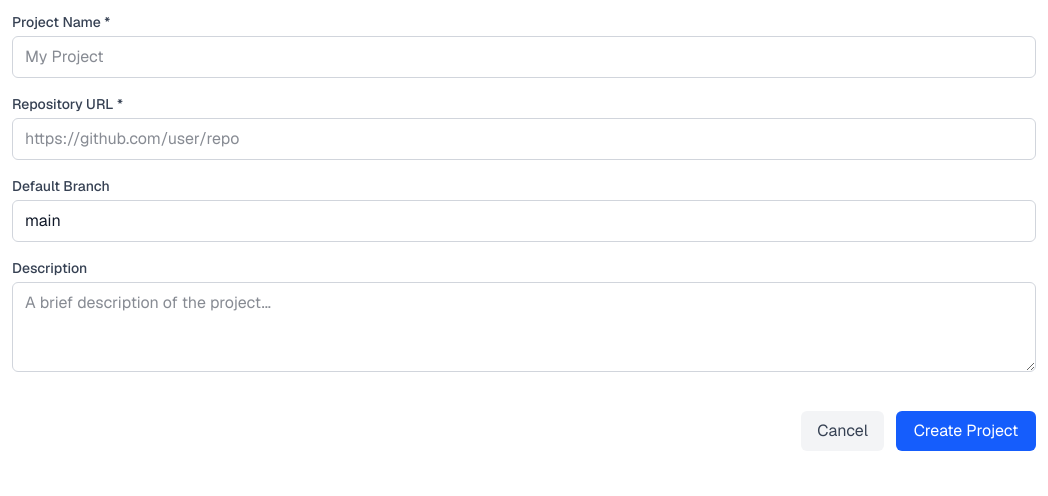
it: ProjectForm › Create mode › should validate repository URL format
The image size is (1048, 496).
Type "Test Project" into the field labelled "Project Name *". click: (524, 57)
box: [12,36,1036,78]
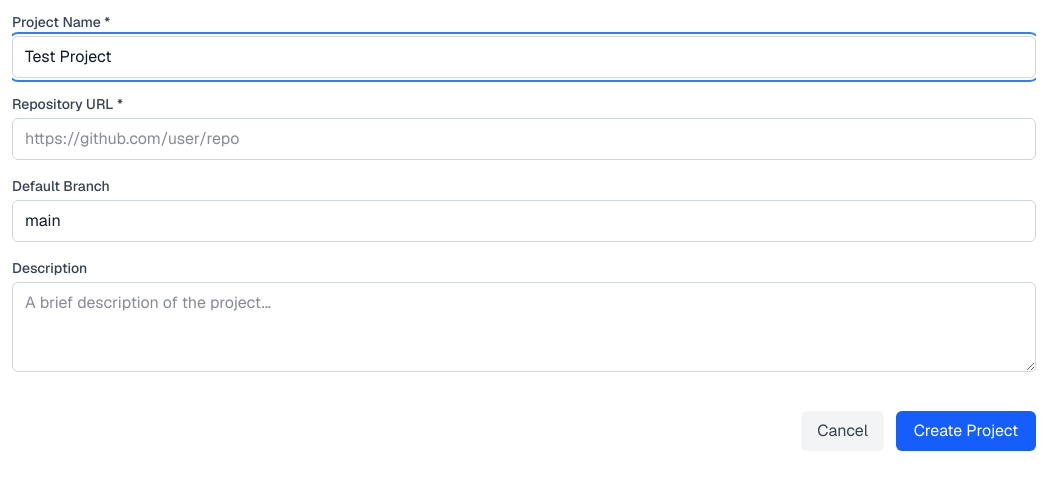
Type "invalid-url" into the field labelled "Repository URL *". click: (524, 139)
box: [12,118,1036,160]
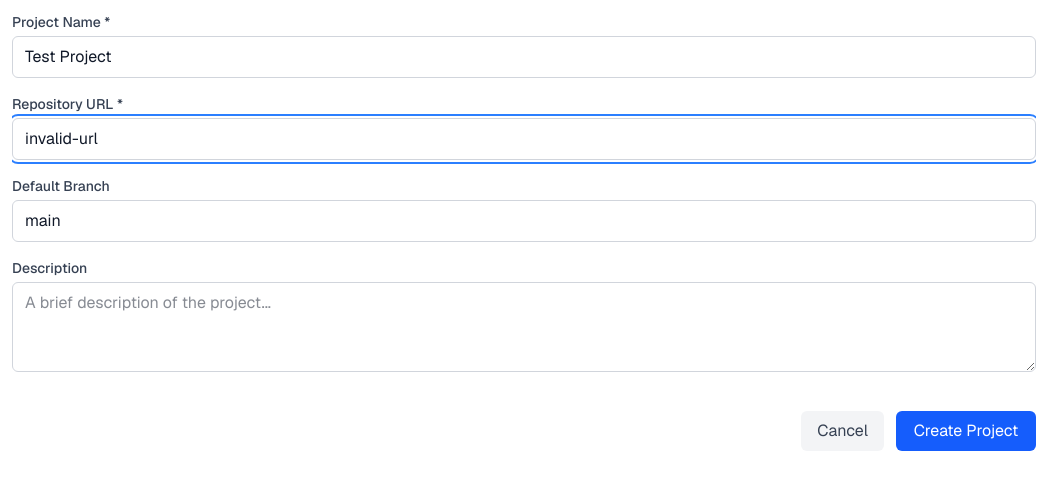
Click the button "Create Project". click: (966, 431)
box: [896,411,1036,451]
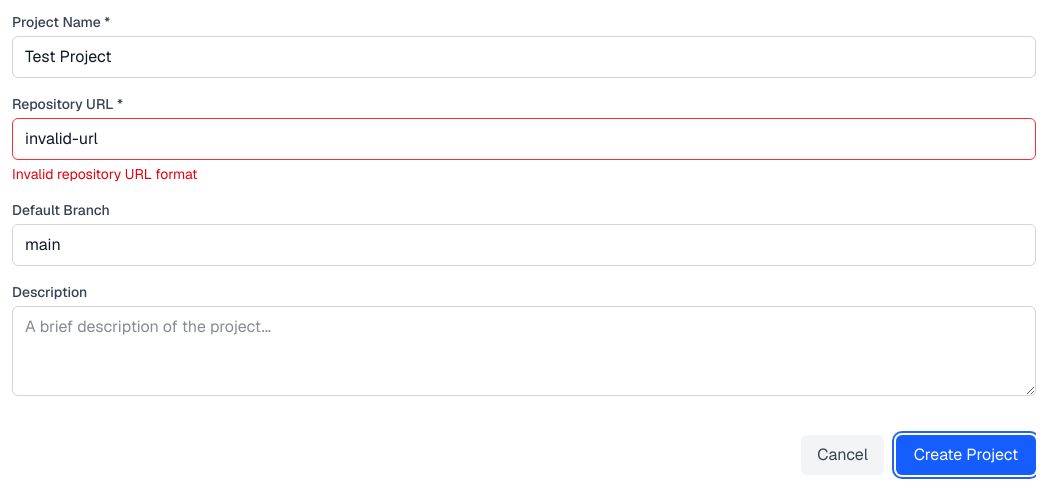
Check: the text "Invalid repository URL format" is shown, box [12,165,198,183]
